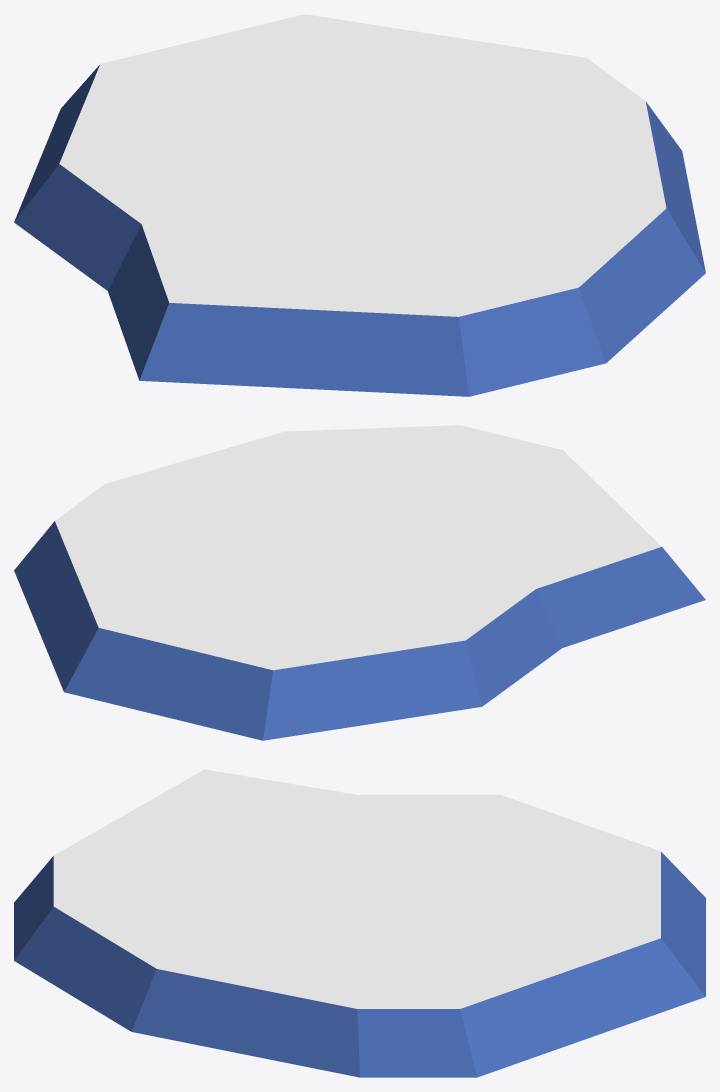
The model's file is Rock029.fbx.
3 renders of one model, top to bottom at view 1: azimuth 30°, elevation 25°; view 2: azimuth 150°, elevation 25°; view 3: azimuth 270°, elevation 25°, orthographic. The views are drawn at different scales.
Parts seen in each view (by area): view 1: Rock029; view 2: Rock029; view 3: Rock029.
Part boxes in pixels (bbox=[...]): Rock029: bbox=[14, 14, 705, 396]; Rock029: bbox=[14, 425, 705, 740]; Rock029: bbox=[14, 769, 705, 1077].
Bounding box in the file's own units: 125 × 11.23 × 134.
